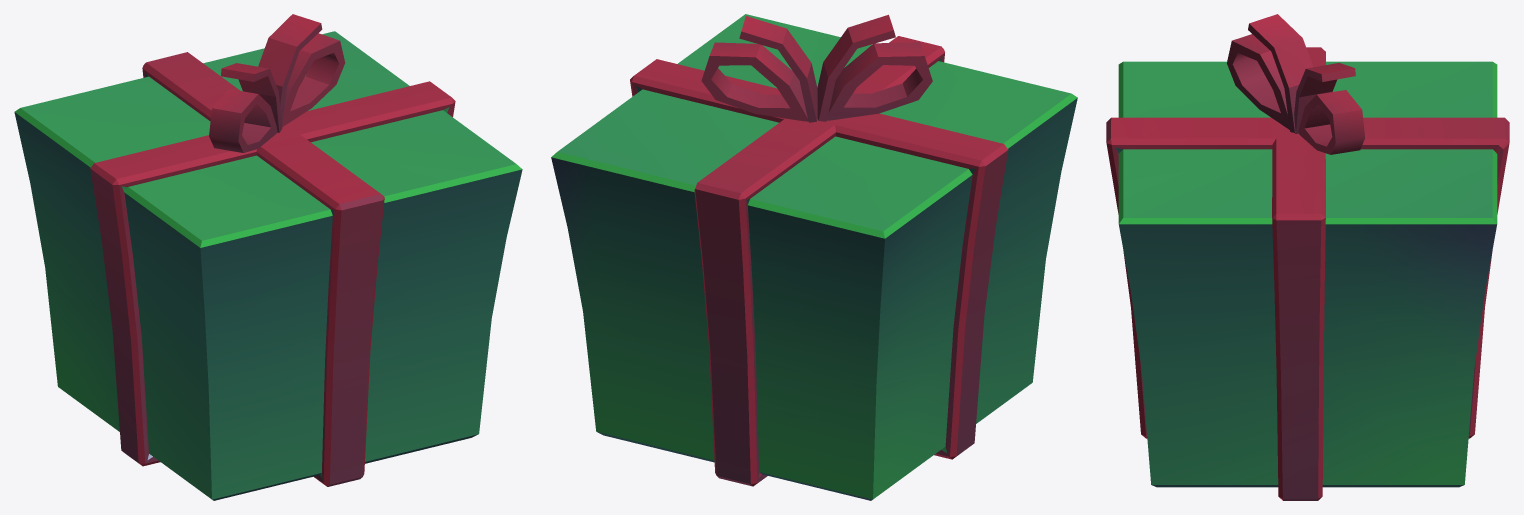
The model's file is package_Green.fbx.
3 views of the same model, side by side, from view 1: azimuth 30°, elevation 25°; view 2: azimuth 150°, elevation 25°; view 3: azimuth 270°, elevation 25° (orthographic). The views are drawn at different scales.
Visible parts, largest first — view 1: Package_Red; view 2: Package_Red; view 3: Package_Red.
Boxes of the visible parts, x1=… form: Package_Red: x1=14, y1=14, x2=522, y2=500; Package_Red: x1=551, y1=14, x2=1077, y2=500; Package_Red: x1=1106, y1=14, x2=1509, y2=500.
Size of the model in its own units: 0.3221 by 0.3419 by 0.3221.
